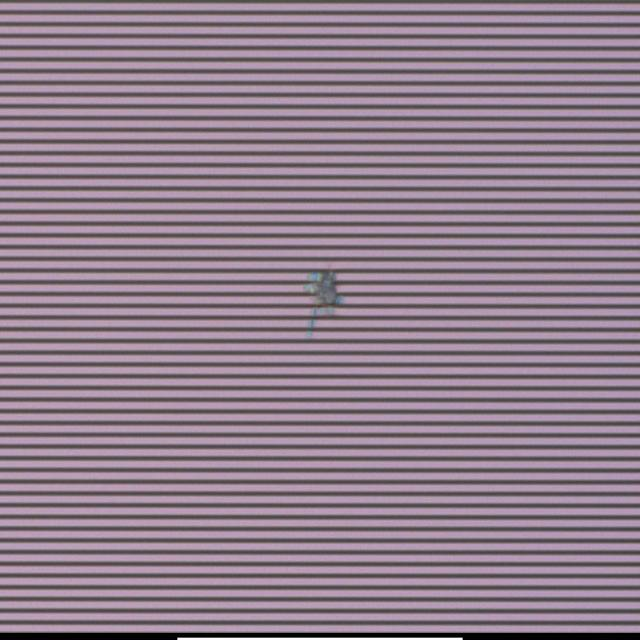03_intrusion: (302, 268, 347, 340)
